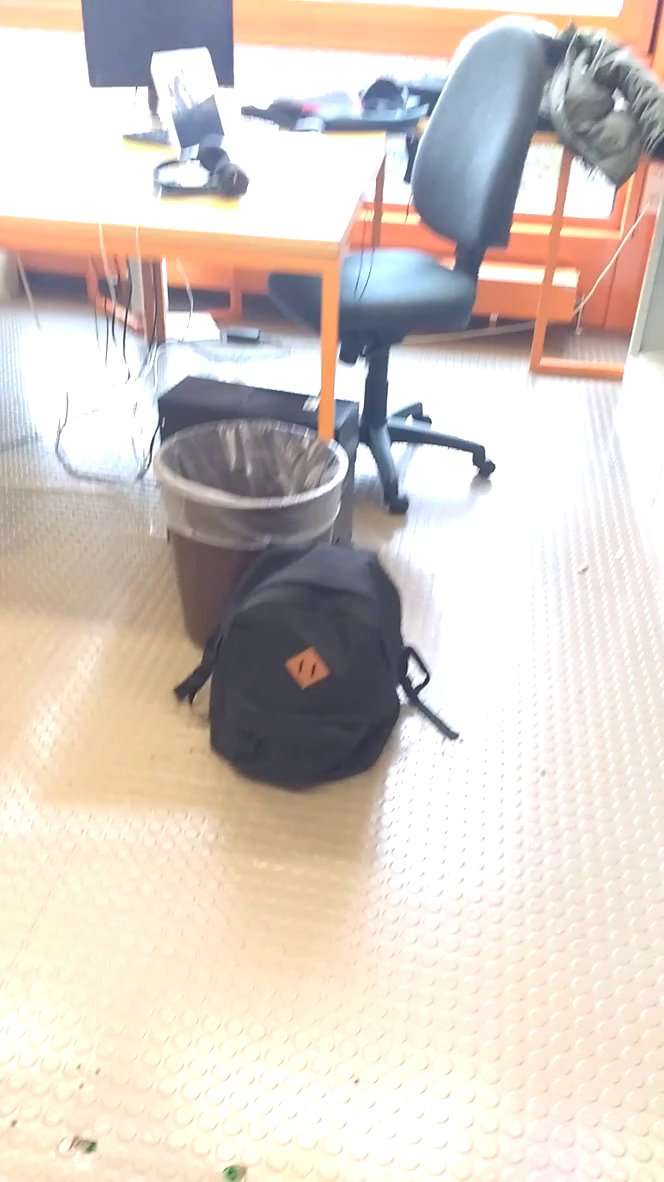bag: (171, 533, 436, 800)
bin: (141, 411, 365, 575)
chair: (253, 16, 564, 520)
laptop: (144, 36, 327, 191)
